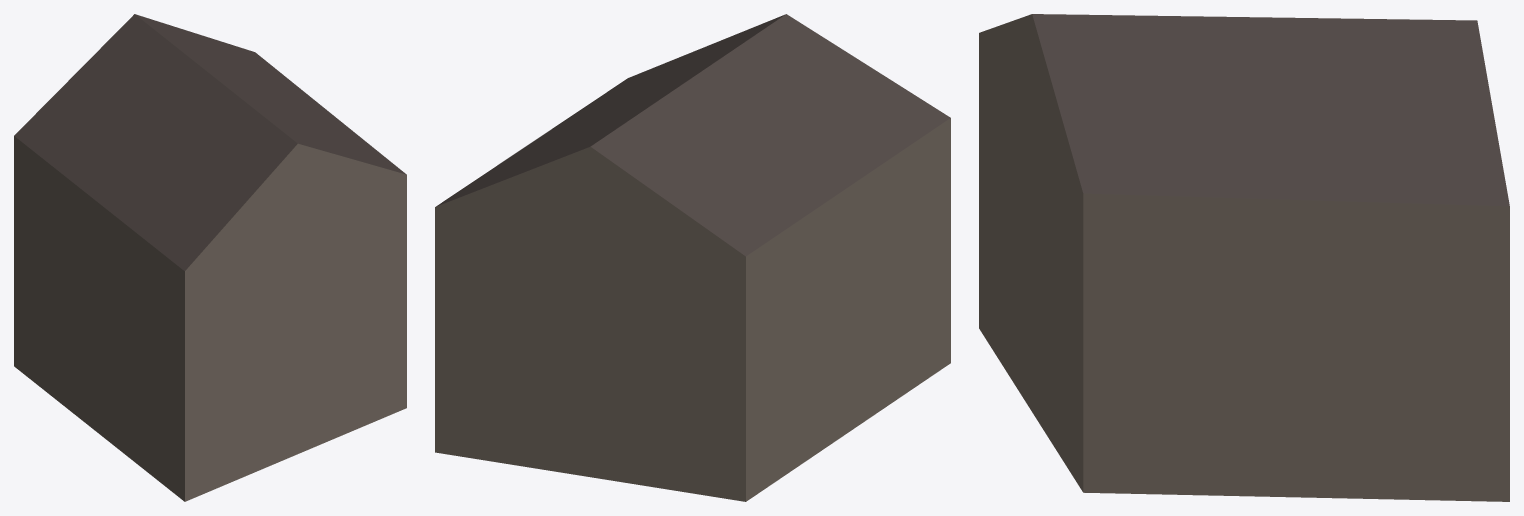
3 renders of one model, left to right at view 1: azimuth 30°, elevation 25°; view 2: azimuth 150°, elevation 25°; view 3: azimuth 270°, elevation 25°, orthographic. The views are drawn at different scales.
Visible parts, largest first — view 1: HP-w1512965869; view 2: HP-w1512965869; view 3: HP-w1512965869.
Part boxes in pixels (x1,y1,x2,y2): HP-w1512965869: [14, 14, 406, 501]; HP-w1512965869: [435, 14, 950, 501]; HP-w1512965869: [979, 14, 1509, 501].
Size of the model in its own units: 7.56 by 8.08 by 9.77.
